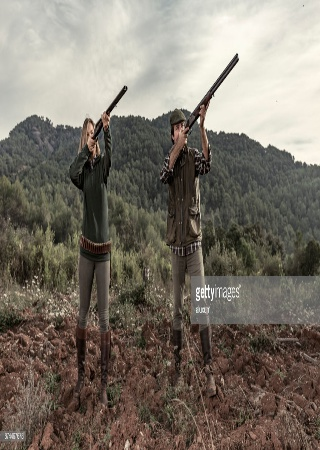rifle: (170, 49, 243, 148), (80, 82, 134, 162)
